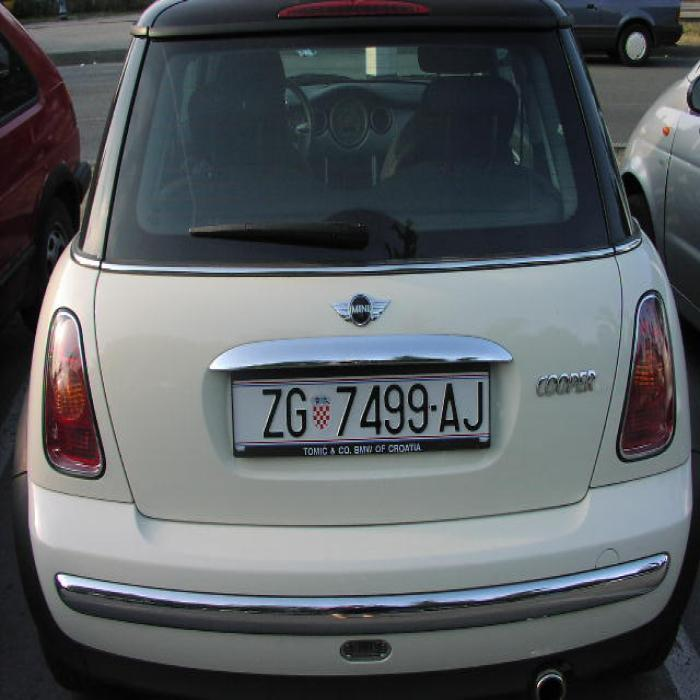number_plate: (230, 380, 485, 438)
